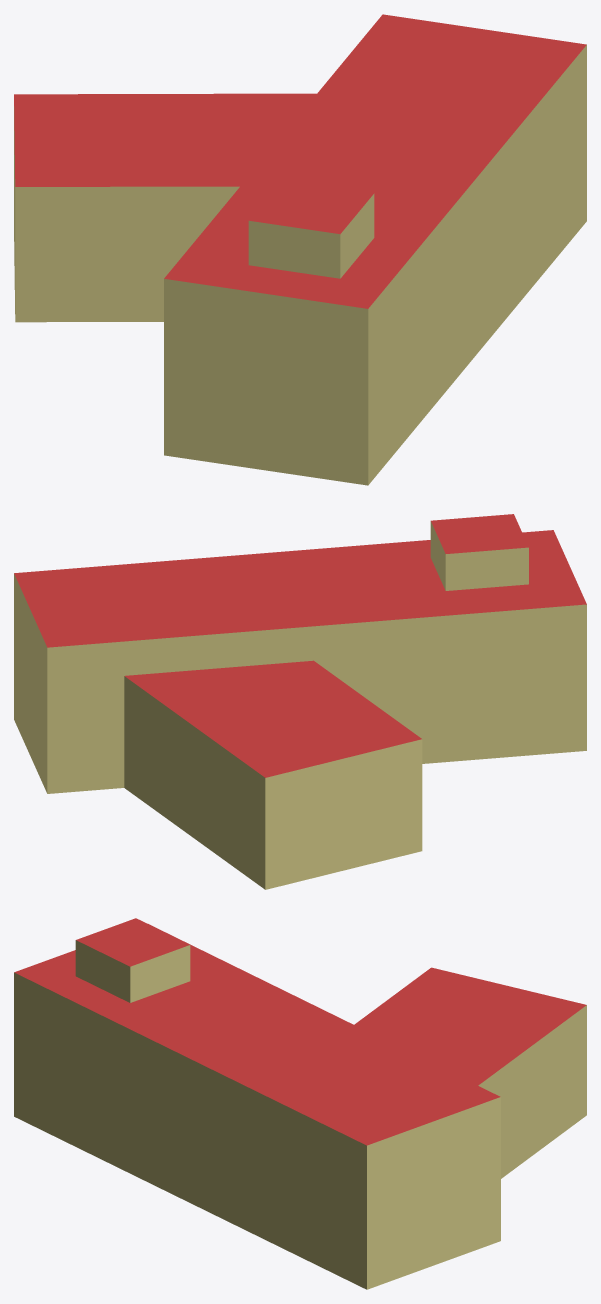
3 views of the same model, one above another, from view 1: azimuth 30°, elevation 25°; view 2: azimuth 150°, elevation 25°; view 3: azimuth 270°, elevation 25° (orthographic). The views are drawn at different scales.
Visible parts, largest first — view 1: group_6, group_3, group_8, group_9, group_5, group_4; view 2: group_6, group_3, group_9, group_8, group_5, group_4; view 3: group_6, group_3, group_8, group_9, group_5, group_4.
Part boxes in pixels (x1,y1,x2,y2): group_6: (164,45,586,485); group_3: (164,14,586,308); group_8: (14,93,316,186); group_9: (14,106,239,322); group_5: (248,193,374,278); group_4: (249,180,373,234); group_6: (14,574,586,793); group_3: (14,530,586,647); group_9: (124,676,422,889); group_8: (125,660,421,777); group_5: (430,521,528,590); group_4: (431,514,528,553); group_6: (14,972,500,1289); group_3: (14,924,500,1145); group_8: (354,967,586,1085); group_9: (478,1005,586,1178); group_5: (75,940,190,1002); group_4: (76,918,189,966).
Bounding box in the file's own units: 38.58 × 42.08 × 14.63.
